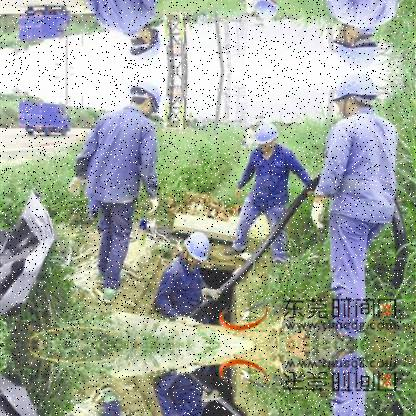Helmet: (328, 16, 378, 66), (331, 70, 380, 121), (121, 25, 168, 65), (126, 81, 162, 116), (244, 0, 282, 23), (182, 233, 210, 263), (254, 126, 283, 150)
